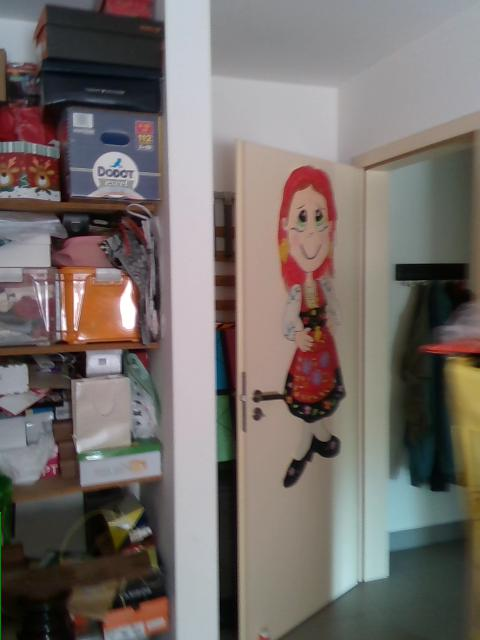door: (235, 138, 364, 640)
